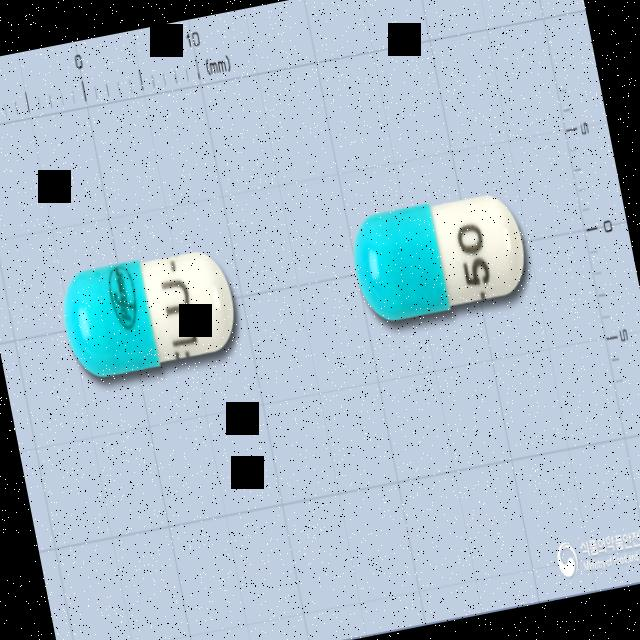Diflucan Cap - 150mg: (55, 242, 244, 384), (345, 185, 534, 327)
